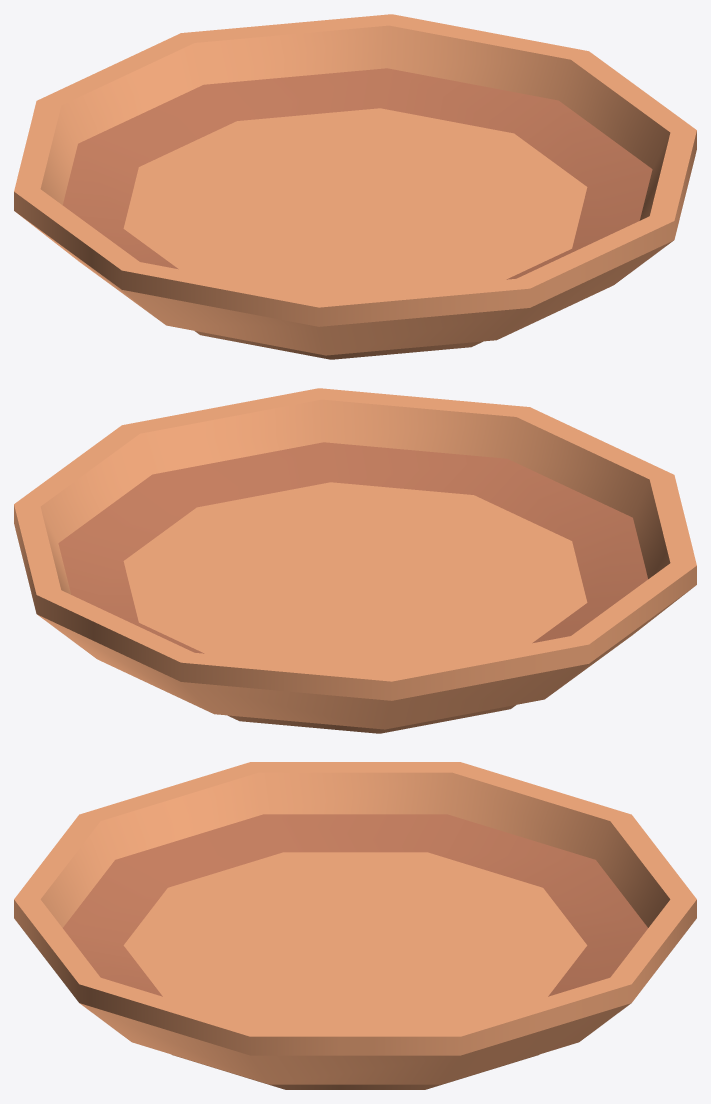
The model's file is tajine.GLB.
3 views of the same model, one above another, from view 1: azimuth 30°, elevation 25°; view 2: azimuth 150°, elevation 25°; view 3: azimuth 270°, elevation 25° (orthographic). The views are drawn at different scales.
Visible parts, largest first — view 1: tajine; view 2: tajine; view 3: tajine.
Boxes of the visible parts, left/top/right/bottom form: tajine: left=14, top=14, right=696, bottom=359; tajine: left=14, top=388, right=696, bottom=733; tajine: left=14, top=762, right=696, bottom=1089.
Size of the model in its own units: 0.8191 by 0.138 by 0.8613.
